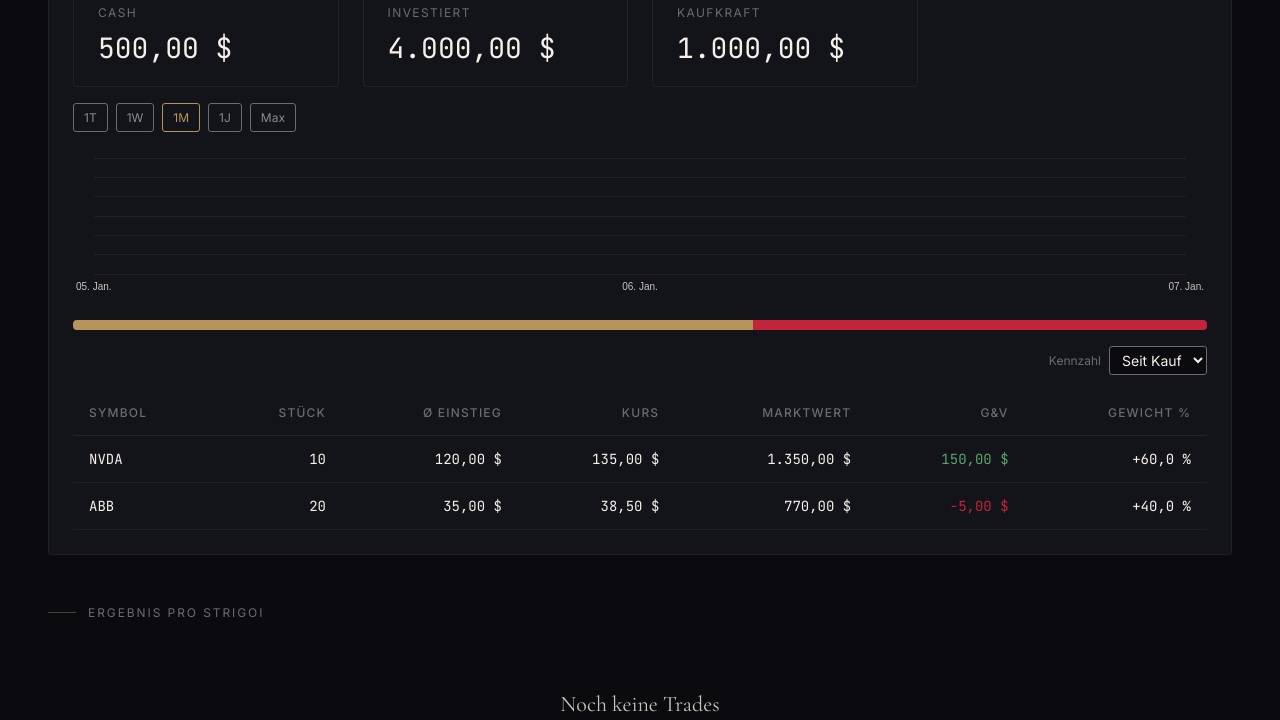
Scenario: DepotsView › renders null day-change values as a dash, never as 0
(page scrolled)
Select "Heute" in the dropdown with test id "depot-metric-select" at coordinates (1158, 361), box [1109,346,1207,375]
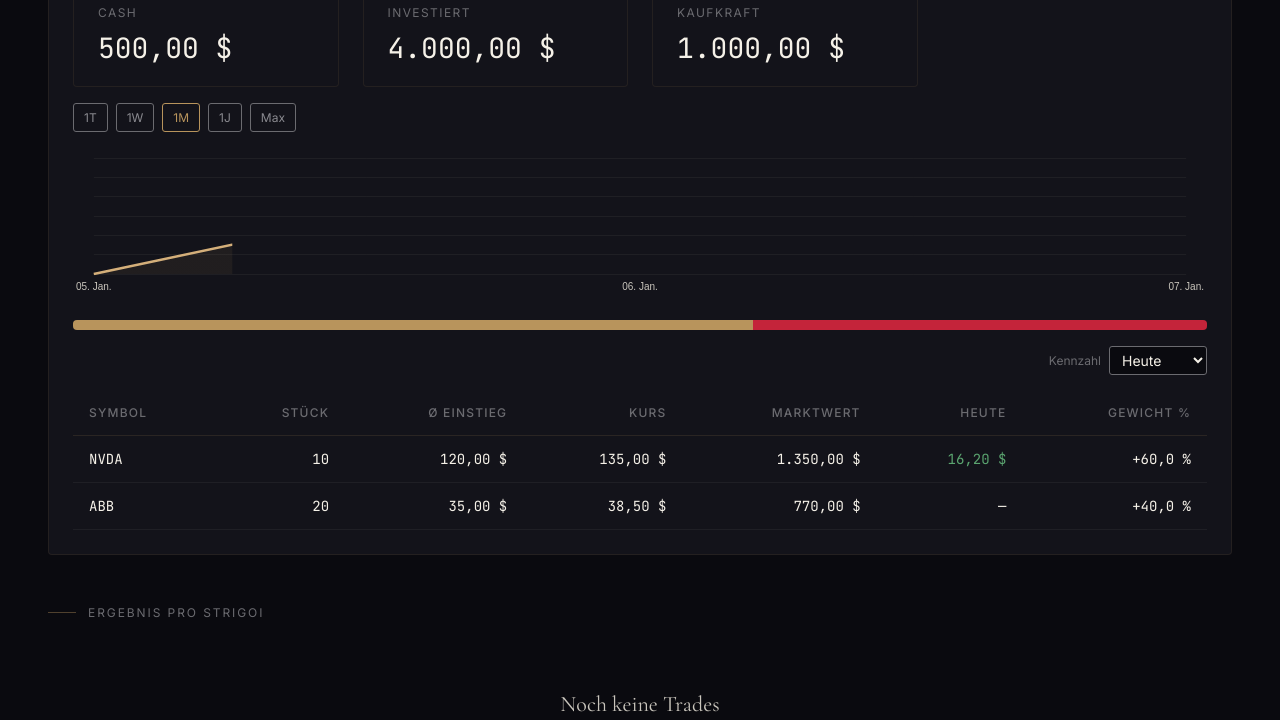
Expected: the cell with test id "change-cell" reads "—", [998,497,1006,515]
